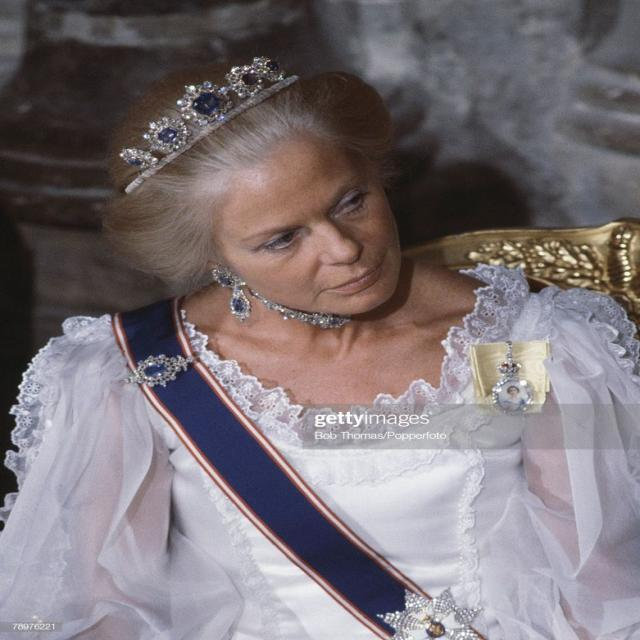Earring: (214, 262, 260, 324)
